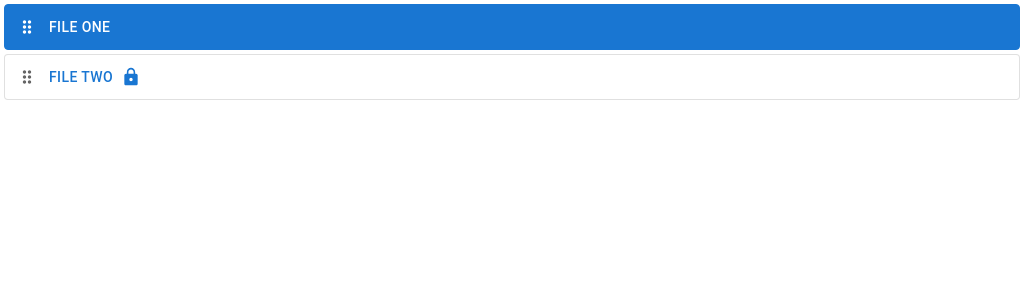
Test: EditorWorkingFiles › opens the menu on a simple mouse click and returns focus on dismissal without saving
The image size is (1024, 298).
Press the mouse on the button named "Reorder File Two" at (27, 77), box x1=5 y1=55 x2=49 y2=99
Click the button named "Reorder File Two" at (27, 77), box x1=5 y1=55 x2=49 y2=99
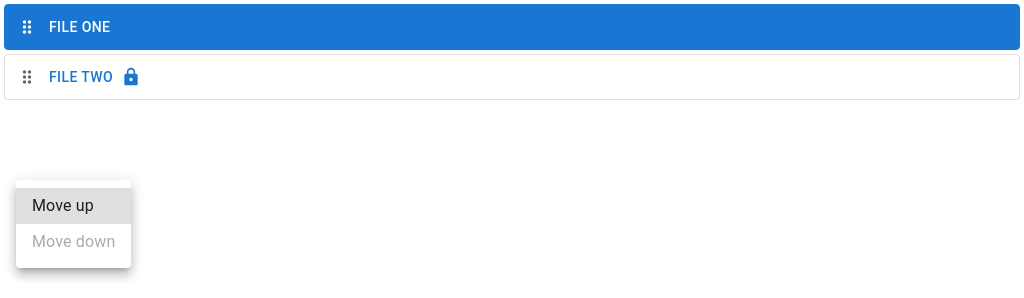
Check: the menu is shown
Press Escape in the menu, box x1=16 y1=180 x2=131 y2=268
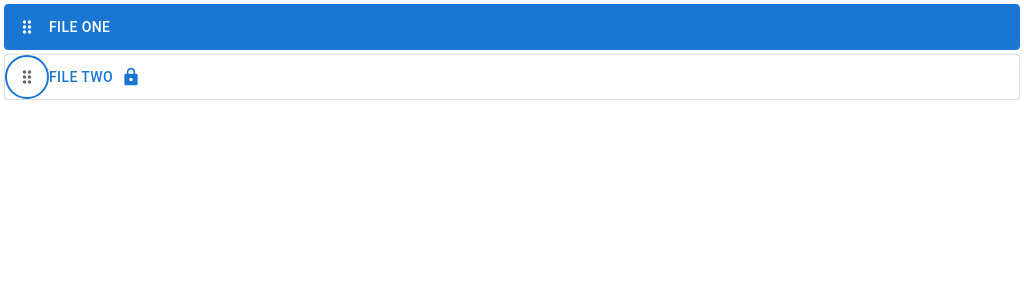
Check: the menu is gone
